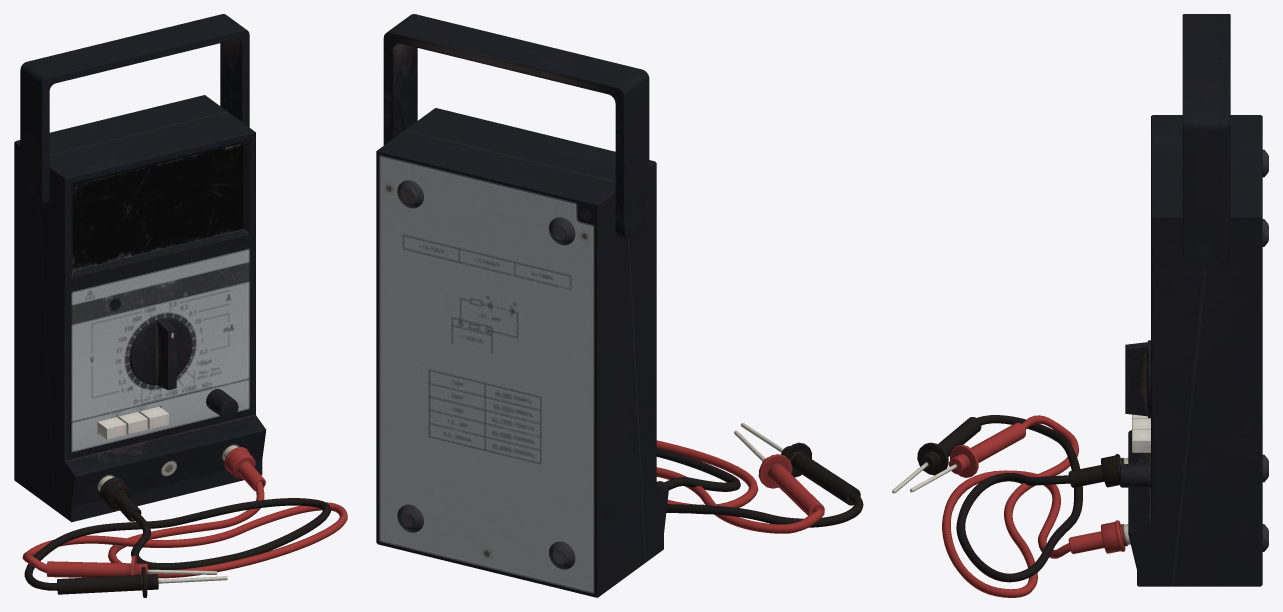
File: multimetro.glb
The picture shows the model from 3 angles, left to right: view 1: azimuth 30°, elevation 25°; view 2: azimuth 150°, elevation 25°; view 3: azimuth 270°, elevation 25°; orthographic projection. The views are drawn at different scales.
Parts seen in each view (by area): view 1: body_body_0, cables_body_0, body_glass_0, handle_body_0, dial_body_0, buttons_body_0, knob_body_0; view 2: body_body_0, handle_body_0, cables_body_0; view 3: body_body_0, cables_body_0, handle_body_0, dial_body_0, knob_body_0, buttons_body_0.
Part boxes in pixels (<box>): body_body_0: <box>14,95,266,522</box>; cables_body_0: <box>22,445,347,597</box>; body_glass_0: <box>72,143,243,270</box>; handle_body_0: <box>20,14,249,207</box>; dial_body_0: <box>129,318,192,390</box>; buttons_body_0: <box>97,406,168,439</box>; knob_body_0: <box>206,389,238,418</box>; body_body_0: <box>376,108,668,597</box>; handle_body_0: <box>383,14,649,238</box>; cables_body_0: <box>656,423,863,533</box>; body_body_0: <box>1128,115,1268,586</box>; cables_body_0: <box>892,415,1130,597</box>; handle_body_0: <box>1182,14,1230,266</box>; dial_body_0: <box>1125,340,1150,418</box>; knob_body_0: <box>1120,463,1150,487</box>; buttons_body_0: <box>1132,414,1150,452</box>.
Bounding box in the file's own units: 0.1296 × 0.1672 × 0.1216.
Materials: 2 (2 with a texture image).
